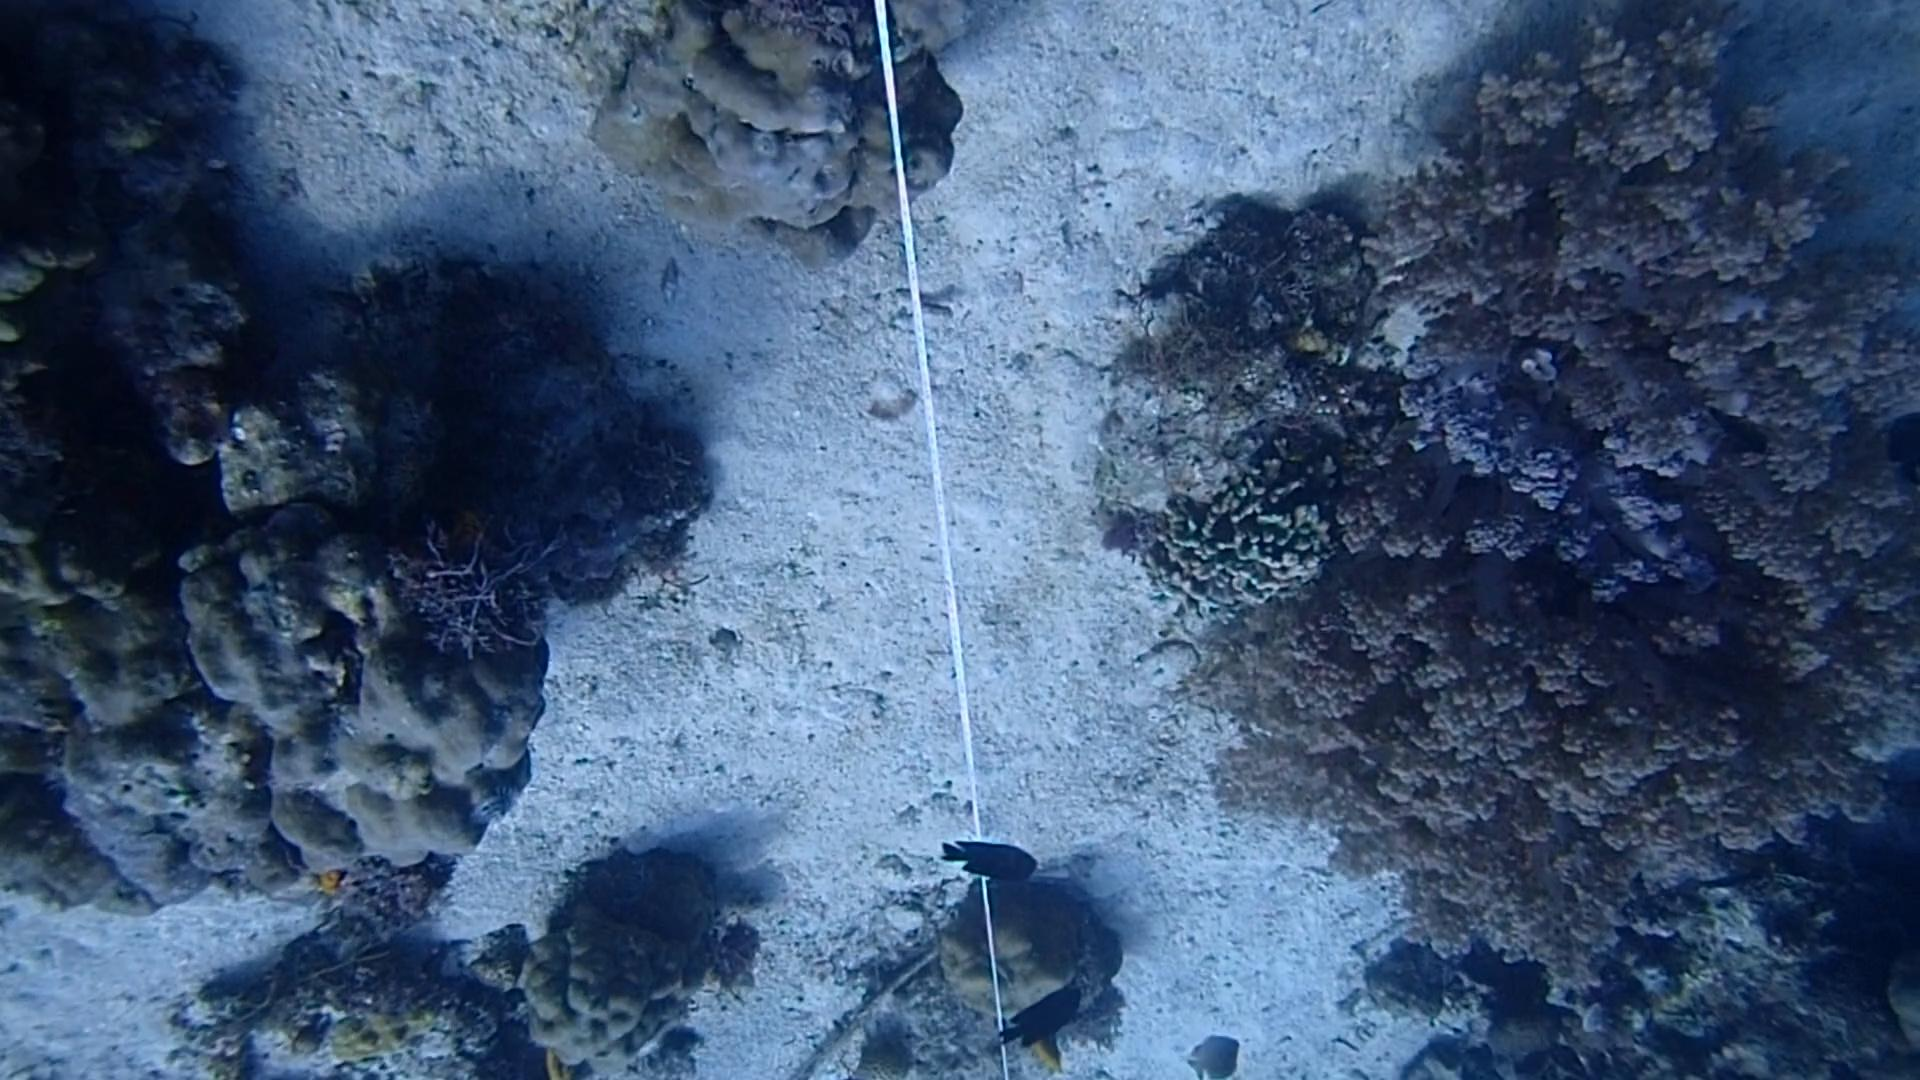Dark Fish: (996, 969, 1096, 1054), (931, 833, 1044, 895), (1696, 402, 1772, 463), (1887, 401, 1920, 487)
Light Fish: (1170, 1029, 1255, 1080)
